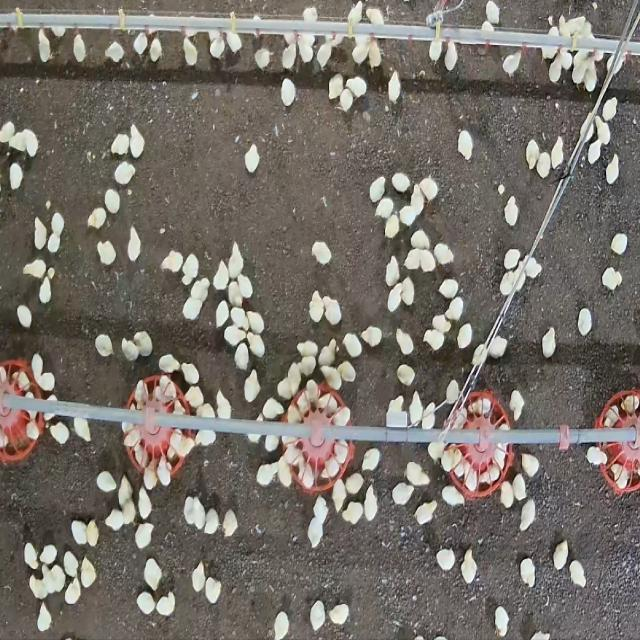broiler: (170, 430, 195, 459), (227, 242, 243, 278), (405, 462, 429, 486), (461, 549, 477, 583), (415, 500, 437, 524), (144, 558, 161, 589), (79, 557, 96, 587), (243, 370, 259, 401), (324, 296, 341, 325), (348, 0, 362, 35), (127, 226, 141, 261), (114, 162, 135, 185), (601, 267, 622, 290), (392, 482, 413, 505), (213, 260, 229, 290), (182, 254, 198, 284), (520, 499, 535, 531), (130, 123, 144, 157), (409, 391, 423, 425), (133, 331, 152, 356), (135, 523, 153, 549), (364, 485, 377, 521), (277, 455, 292, 486), (457, 130, 473, 159), (161, 250, 182, 272), (262, 398, 284, 419), (332, 479, 346, 512), (342, 501, 363, 523), (311, 241, 331, 264), (321, 366, 341, 389), (319, 339, 336, 366), (418, 177, 437, 201), (97, 241, 116, 265), (309, 291, 324, 321), (308, 516, 323, 546), (396, 328, 413, 354), (257, 463, 277, 485), (230, 306, 249, 329), (190, 278, 209, 301), (343, 334, 362, 357), (50, 421, 69, 444), (184, 385, 203, 408), (36, 602, 51, 631), (313, 496, 328, 525), (553, 540, 568, 569), (310, 601, 325, 630), (583, 60, 597, 91), (286, 363, 300, 394), (118, 475, 132, 506), (138, 487, 152, 518), (192, 561, 206, 592), (157, 455, 171, 486), (503, 51, 521, 75), (445, 296, 463, 320), (222, 509, 238, 536), (244, 144, 259, 172), (346, 77, 367, 97), (423, 329, 444, 349), (224, 325, 245, 345), (577, 308, 592, 336), (510, 390, 524, 420), (375, 197, 394, 219), (183, 297, 202, 319), (488, 336, 507, 358), (136, 592, 155, 614), (442, 486, 464, 505), (550, 136, 563, 168), (34, 217, 47, 249), (205, 577, 221, 603), (569, 560, 585, 586), (23, 259, 46, 277), (121, 338, 139, 361), (156, 592, 174, 615), (521, 454, 539, 477), (571, 59, 588, 83), (410, 185, 424, 214), (504, 196, 518, 225), (494, 606, 508, 635), (520, 558, 534, 587), (234, 343, 249, 370), (50, 565, 65, 592), (274, 612, 289, 639), (192, 497, 205, 528), (104, 188, 120, 213), (438, 279, 458, 299), (361, 326, 381, 346), (328, 604, 348, 624), (434, 243, 453, 264), (180, 363, 199, 384), (88, 207, 106, 229), (388, 70, 400, 103), (29, 575, 47, 597), (362, 448, 380, 470), (321, 456, 339, 478), (183, 37, 197, 65), (281, 78, 295, 106), (216, 390, 230, 418), (41, 565, 55, 593), (246, 311, 263, 334), (247, 334, 264, 357), (316, 42, 331, 68), (386, 256, 399, 286), (542, 327, 555, 357), (63, 551, 78, 577), (64, 577, 79, 603), (203, 509, 219, 533), (105, 42, 124, 62), (391, 172, 410, 192), (96, 471, 116, 490), (586, 446, 606, 465), (9, 162, 23, 189), (149, 37, 163, 64), (211, 32, 225, 59), (397, 364, 415, 385), (105, 509, 123, 530), (39, 544, 57, 565), (437, 549, 455, 570), (512, 473, 526, 500), (526, 140, 539, 169), (339, 87, 354, 112), (457, 323, 472, 348), (594, 119, 609, 144), (500, 270, 515, 295), (39, 28, 50, 62), (352, 42, 369, 64), (95, 334, 112, 356), (73, 34, 86, 62), (299, 36, 313, 62), (536, 152, 550, 178), (500, 481, 514, 507), (432, 314, 450, 334), (606, 154, 618, 184), (337, 361, 355, 381), (159, 354, 179, 372), (75, 417, 90, 441), (346, 473, 363, 494), (386, 395, 403, 416), (254, 47, 270, 69), (283, 42, 296, 69), (216, 300, 229, 327), (144, 462, 157, 489), (329, 73, 343, 98), (122, 499, 136, 524), (23, 543, 37, 568), (369, 39, 381, 68), (445, 41, 457, 70), (71, 521, 86, 544), (111, 134, 129, 153), (411, 230, 429, 249), (566, 16, 585, 34), (31, 354, 42, 385), (399, 205, 416, 225), (525, 258, 542, 278), (297, 340, 317, 357), (485, 0, 499, 24), (39, 275, 51, 303), (611, 233, 627, 254), (557, 48, 572, 70), (548, 57, 561, 82), (370, 177, 383, 202), (421, 403, 434, 428), (26, 130, 38, 157), (402, 277, 414, 304), (387, 284, 399, 311), (133, 32, 147, 55), (603, 98, 617, 121), (238, 274, 252, 297), (445, 380, 459, 403), (404, 249, 420, 269), (504, 249, 520, 269), (228, 281, 241, 305), (86, 519, 98, 545), (17, 305, 31, 327), (184, 496, 195, 524), (226, 32, 241, 52), (420, 250, 435, 270), (195, 430, 215, 445), (386, 214, 399, 237), (51, 212, 64, 235), (123, 428, 139, 446), (429, 39, 442, 61), (0, 122, 14, 142), (366, 8, 383, 24), (299, 356, 315, 373), (39, 372, 54, 390), (9, 133, 24, 150), (588, 140, 599, 163), (47, 232, 59, 252), (265, 435, 279, 451), (542, 46, 558, 59), (303, 7, 317, 20), (548, 26, 559, 35), (291, 33, 294, 39)
pipe: (149, 412, 482, 444), (0, 12, 348, 37), (4, 395, 145, 426), (440, 26, 572, 48), (487, 429, 636, 444), (354, 23, 434, 38), (577, 36, 619, 53), (624, 38, 639, 55)
rice: (123, 380, 195, 489), (446, 392, 513, 499), (281, 380, 351, 450), (594, 390, 639, 496), (0, 400, 44, 463), (0, 359, 42, 398), (305, 442, 337, 477), (290, 468, 331, 494), (336, 443, 354, 470)
